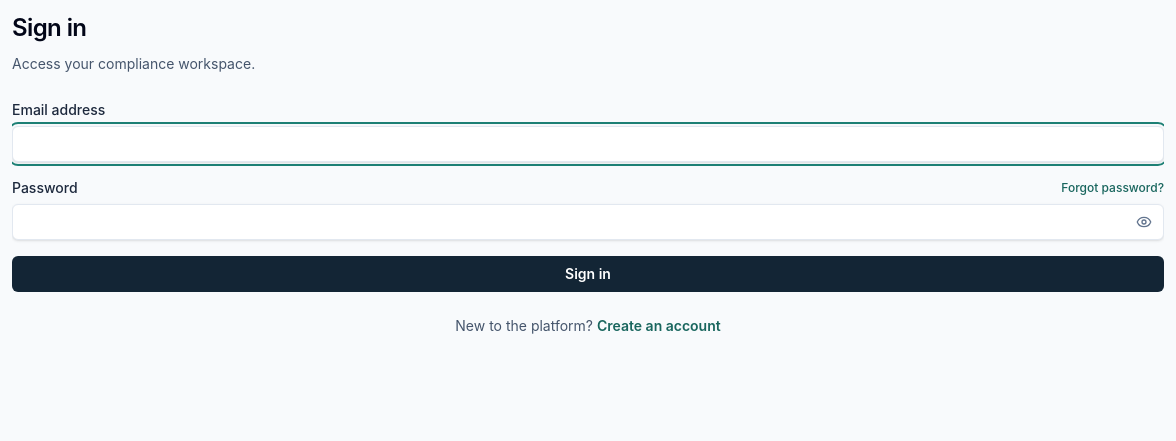
it: login and recovery › shows a safe invalid-login error
Type "user@example.test" into the field labelled "Email address" at (588, 144), box [12,126,1164,162]
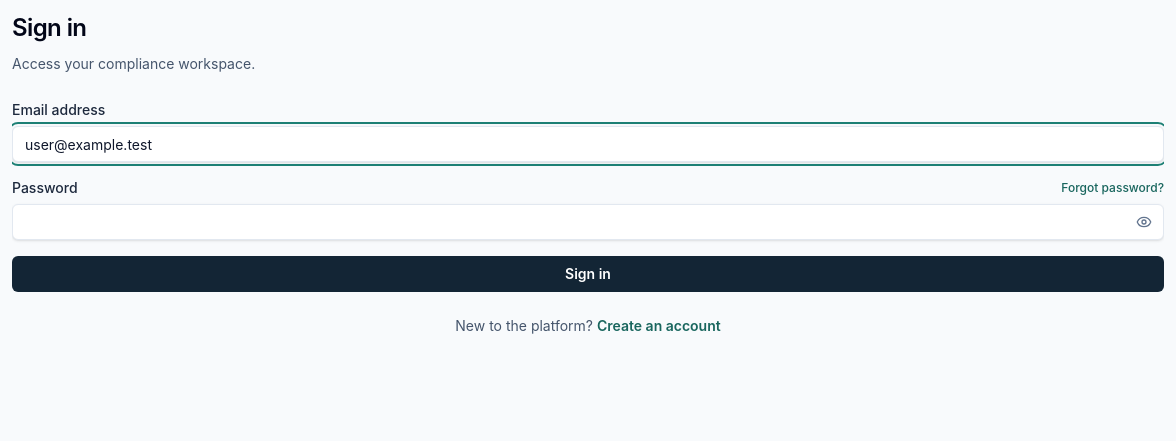
Type "incorrect" into the password field labelled "Password" at (588, 222), box [12,204,1164,240]
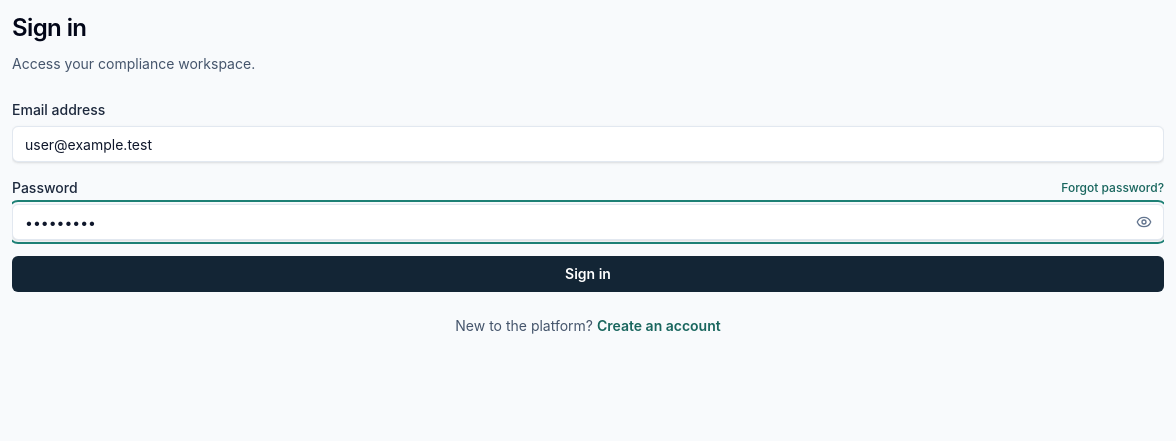
Click the button "Sign in" at (588, 274), box [12,256,1164,292]
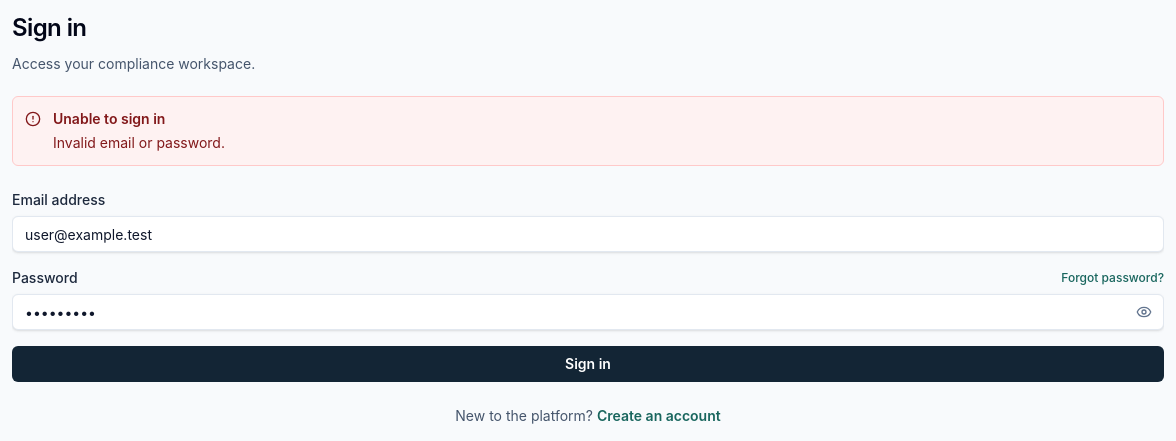
Result: the text "Invalid email or password." is shown at [53,133,225,153]
